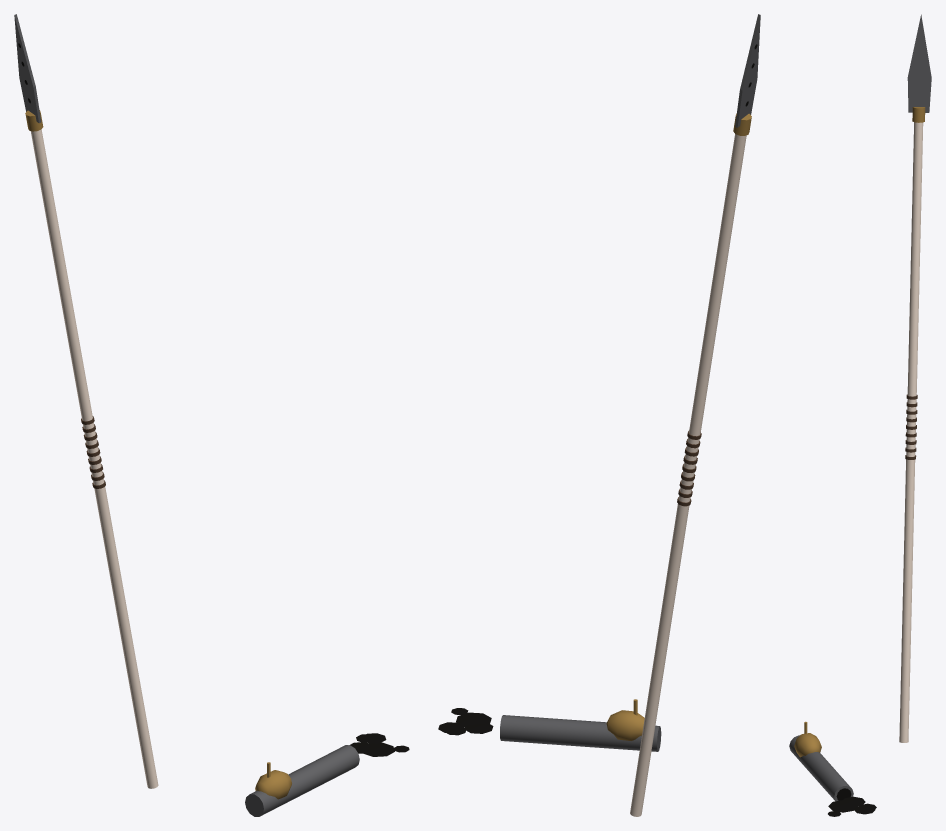
File: macchina_spear.glb
3 renders of one model, left to right at view 1: azimuth 30°, elevation 25°; view 2: azimuth 150°, elevation 25°; view 3: azimuth 270°, elevation 25°, orthographic. The views are drawn at different scales.
Parts seen in each view (by area): view 1: teil0, teil5, teil2, teil4, teil6; view 2: teil0, teil5, teil4, teil2, teil6, teil1; view 3: teil0, teil2, teil5, teil6, teil4, teil1.
Part boxes in pixels (x1,y1,x2,y2): teil0: [30, 129, 158, 788]; teil5: [245, 745, 359, 816]; teil2: [14, 14, 41, 123]; teil4: [25, 110, 291, 799]; teil6: [349, 733, 409, 756]; teil0: [630, 134, 746, 816]; teil5: [500, 715, 661, 751]; teil4: [606, 113, 751, 740]; teil2: [735, 14, 760, 127]; teil6: [438, 708, 493, 735]; teil1: [677, 430, 701, 506]; teil0: [899, 122, 923, 742]; teil2: [907, 14, 931, 112]; teil5: [789, 735, 853, 801]; teil6: [828, 788, 876, 816]; teil4: [794, 107, 925, 757]; teil1: [905, 394, 917, 459].
Size of the model in its own units: 1.12 by 2.49 by 0.4755.
